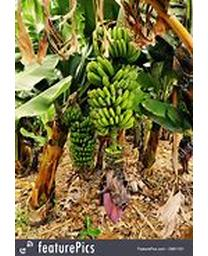banana: (86, 26, 142, 139)
